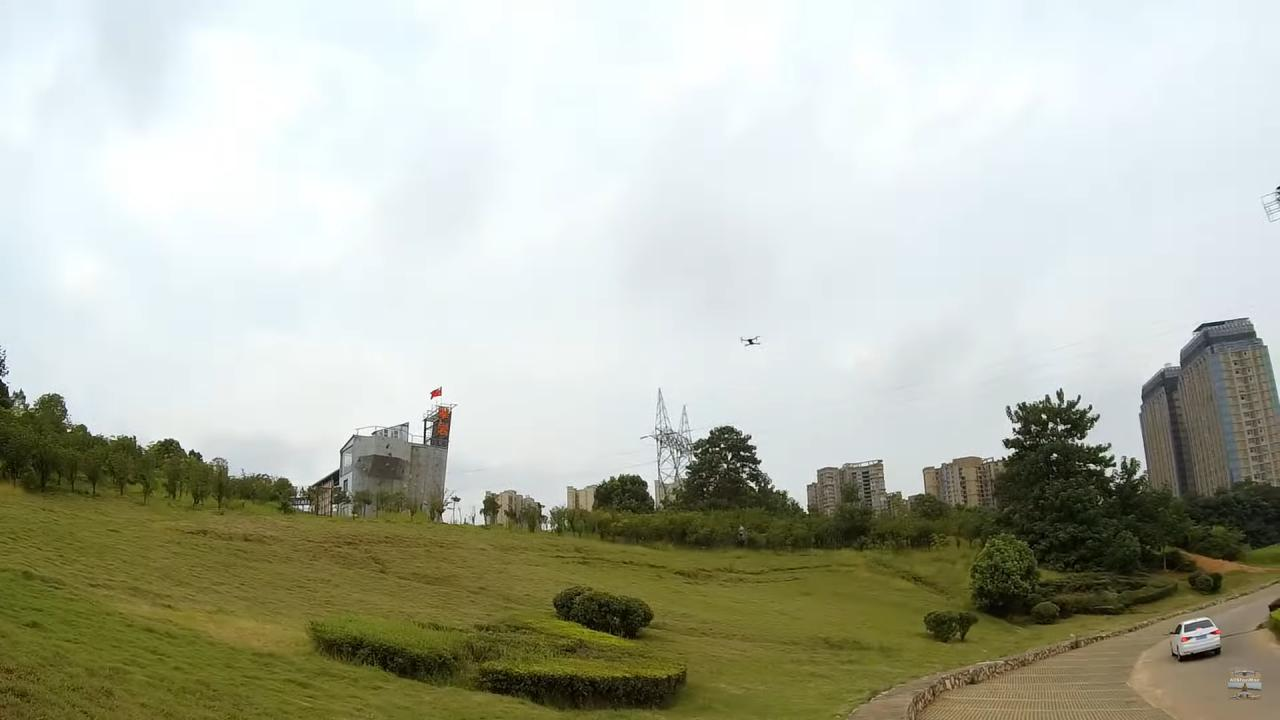Drone: (734, 330, 768, 352)
